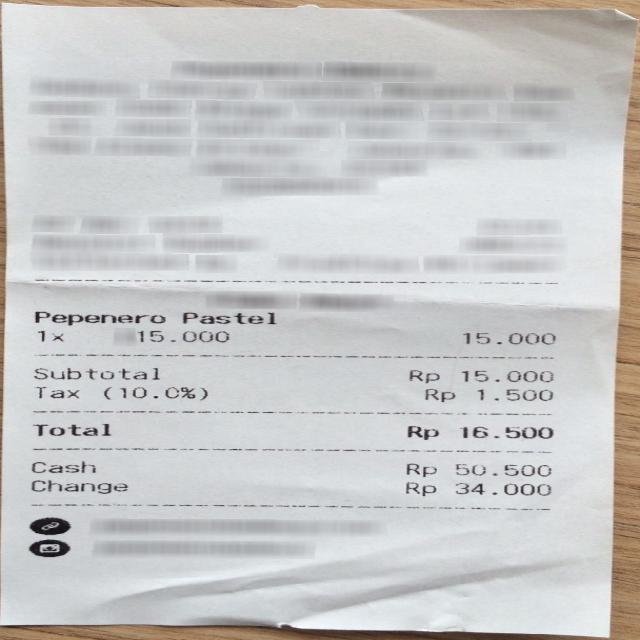text: (34, 311, 163, 324), (30, 479, 126, 493), (34, 368, 158, 378), (103, 386, 205, 398), (134, 330, 230, 342), (181, 312, 276, 324), (454, 464, 548, 476), (454, 482, 548, 494), (461, 332, 554, 343), (458, 426, 550, 437), (32, 423, 108, 435), (461, 370, 551, 380), (476, 388, 549, 400), (29, 461, 92, 472), (35, 386, 76, 397), (405, 481, 435, 495), (423, 388, 454, 401), (406, 462, 434, 476), (407, 370, 438, 382), (406, 426, 436, 438), (37, 330, 63, 341)
